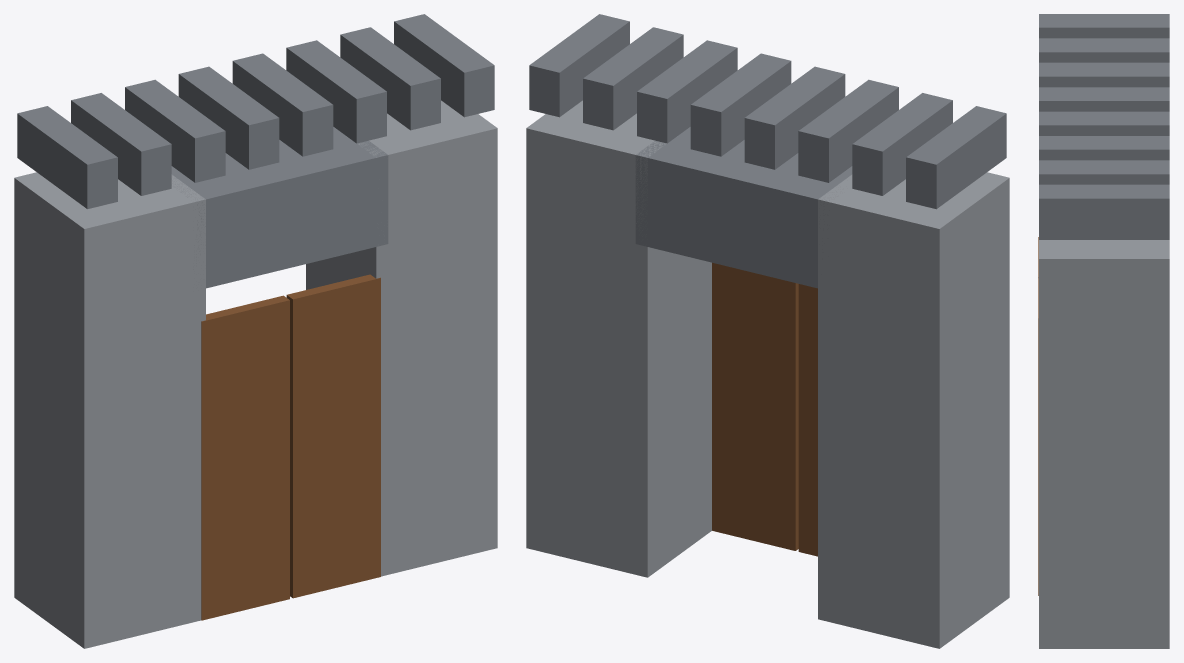
Rendered from SM_Fortress_Gatehouse_A.fbx.
The picture shows the model from 3 angles, left to right: view 1: azimuth 30°, elevation 25°; view 2: azimuth 150°, elevation 25°; view 3: azimuth 270°, elevation 25°; orthographic projection. The views are drawn at different scales.
Visible parts, largest first — view 1: SM_Fortress_Gatehouse_A, SM_Fortress_Gatehouse_A_RightTower, SM_Fortress_Gatehouse_A_GateLeaf_R, SM_Fortress_Gatehouse_A_GateLeaf_L, SM_Fortress_Gatehouse_A_Lintel; view 2: SM_Fortress_Gatehouse_A, SM_Fortress_Gatehouse_A_RightTower, SM_Fortress_Gatehouse_A_GateLeaf_R, SM_Fortress_Gatehouse_A_Lintel, SM_Fortress_Gatehouse_A_GateLeaf_L; view 3: SM_Fortress_Gatehouse_A_RightTower, SM_Fortress_Gatehouse_A, SM_Fortress_Gatehouse_A_GateLeaf_R.
Boxes of the visible parts, <box> form: SM_Fortress_Gatehouse_A: <box>14,14,494,648</box>; SM_Fortress_Gatehouse_A_RightTower: <box>306,100,497,576</box>; SM_Fortress_Gatehouse_A_GateLeaf_R: <box>286,274,380,598</box>; SM_Fortress_Gatehouse_A_GateLeaf_L: <box>201,295,289,620</box>; SM_Fortress_Gatehouse_A_Lintel: <box>171,127,388,288</box>; SM_Fortress_Gatehouse_A: <box>529,14,1009,648</box>; SM_Fortress_Gatehouse_A_RightTower: <box>526,100,711,577</box>; SM_Fortress_Gatehouse_A_GateLeaf_R: <box>712,262,798,550</box>; SM_Fortress_Gatehouse_A_Lintel: <box>635,127,852,288</box>; SM_Fortress_Gatehouse_A_GateLeaf_L: <box>798,284,817,556</box>; SM_Fortress_Gatehouse_A_RightTower: <box>1039,240,1169,648</box>; SM_Fortress_Gatehouse_A: <box>1039,14,1169,239</box>; SM_Fortress_Gatehouse_A_GateLeaf_R: <box>1038,278,1038,595</box>.
Size of what is drawn, in the model's own units: 6.8 by 2.01 by 7.6.
